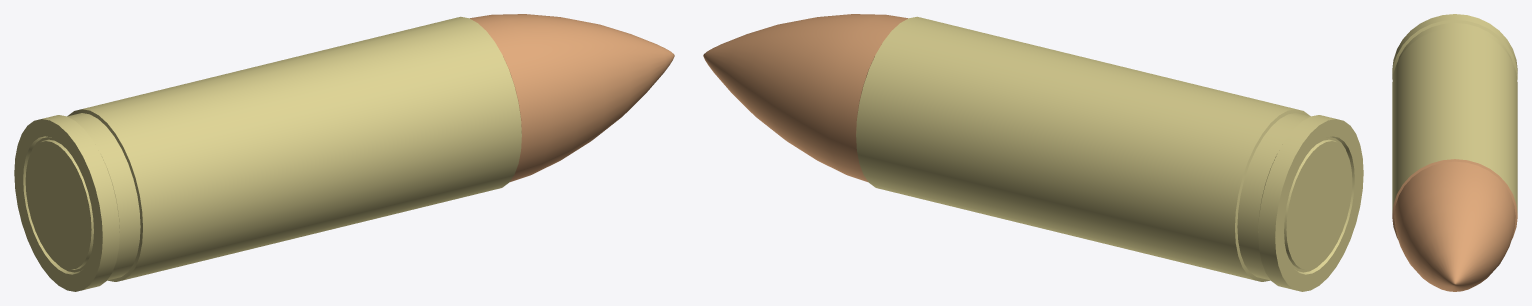
Rendered from pistolBulletModelFBX.fbx.
3 views of the same model, side by side, from view 1: azimuth 30°, elevation 25°; view 2: azimuth 150°, elevation 25°; view 3: azimuth 270°, elevation 25° (orthographic). The views are drawn at different scales.
Parts seen in each view (by area): view 1: Cylinder; view 2: Cylinder; view 3: Cylinder.
Boxes of the visible parts, x1,y1,x2,y2 form: Cylinder: (14, 14, 674, 291); Cylinder: (703, 14, 1363, 291); Cylinder: (1392, 14, 1517, 291).
Size of the model in its own units: 1.03 by 0.2565 by 0.2565.
